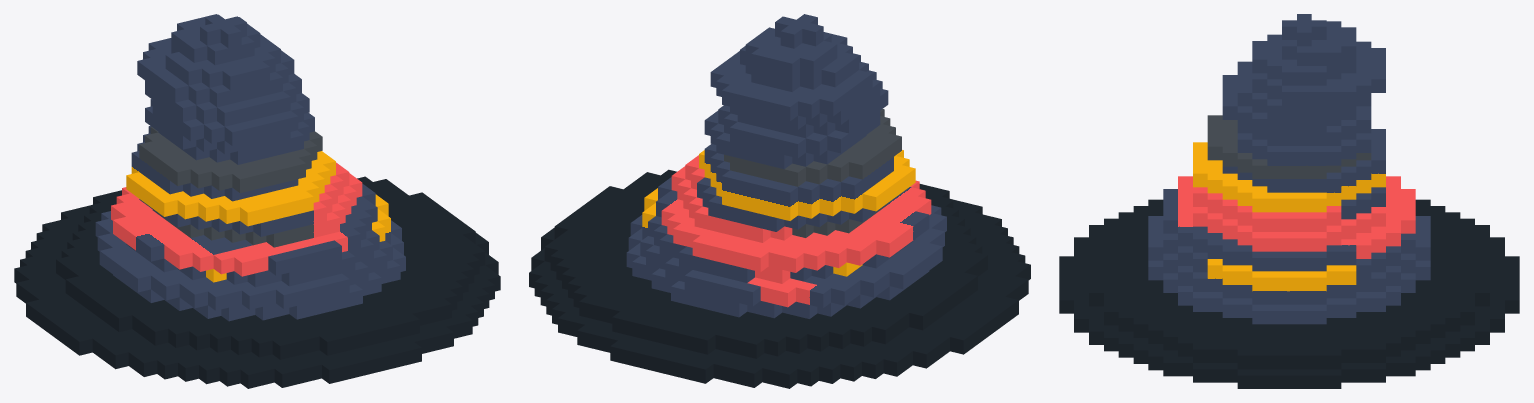
File: 哈利波特-巫师帽.gltf
3 views of the same model, side by side, from view 1: azimuth 30°, elevation 25°; view 2: azimuth 150°, elevation 25°; view 3: azimuth 270°, elevation 25° (orthographic). The views are drawn at different scales.
Visible parts, largest first — view 1: Object; view 2: Object; view 3: Object.
Part boxes in pixels (<box>): Object: <box>14,14,500,388</box>; Object: <box>529,14,1030,388</box>; Object: <box>1059,14,1519,388</box>.
Size of the model in its own units: 31 by 19 by 31.
Materials: 1 (1 with a texture image).
